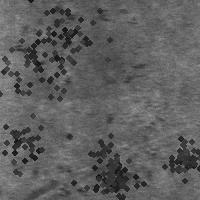rolled-in_scale: (0, 4, 91, 124), (13, 0, 117, 89), (102, 60, 168, 192), (59, 115, 141, 197), (18, 151, 87, 197), (0, 111, 49, 173), (154, 129, 200, 185), (88, 153, 138, 200)
